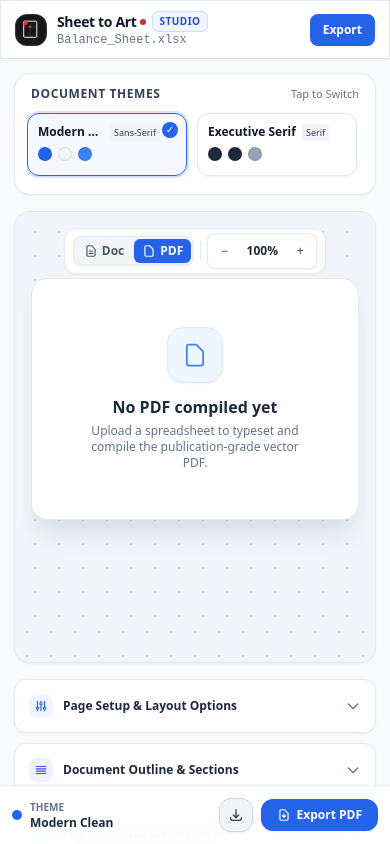
Test: Mobile Responsiveness & Layout Architecture › StudioLayout Mobile & Desktop Viewports › renders mobile layout elements: horizontal theme selector, live preview, and quick download
This screenshot has width=390, height=844.
Expected: the text "Sheet to Art" is shown, [57,12,146,32]
Expected: the text "Page Setup & Layout Options" is shown, [63,698,237,714]
Note: Expanding an accordion
What coordinates should you click on to do the following:
click the button "Page Setup & Layout Options"
I would click on:
 (195, 706)
Its box is [15,680,375,732].
(page scrolled)
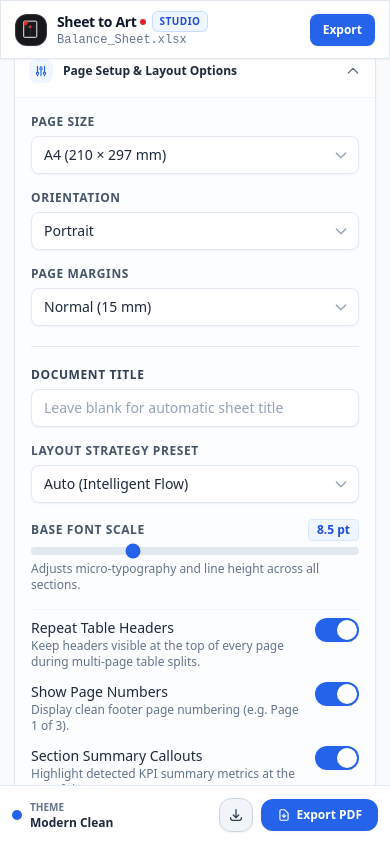
Result: the text "Page Size" is shown at [31,113,95,130]
Result: the text "Layout Strategy Preset" is shown at [31,442,199,459]
